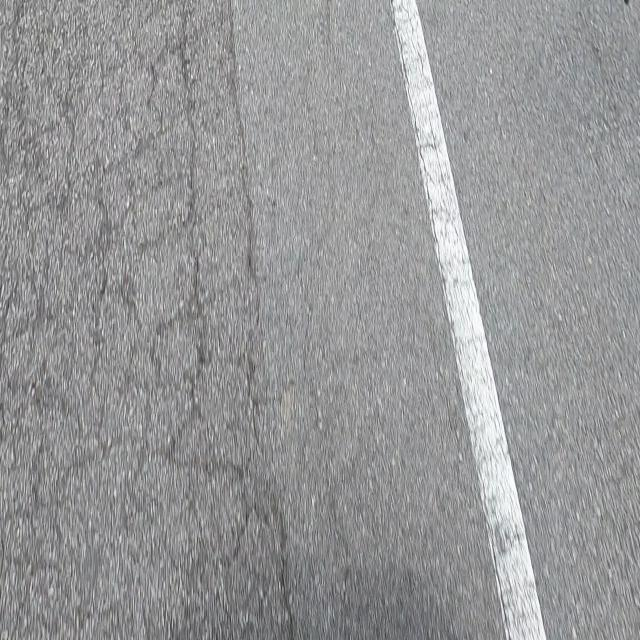Retak-Buaya: (0, 0, 291, 640)
